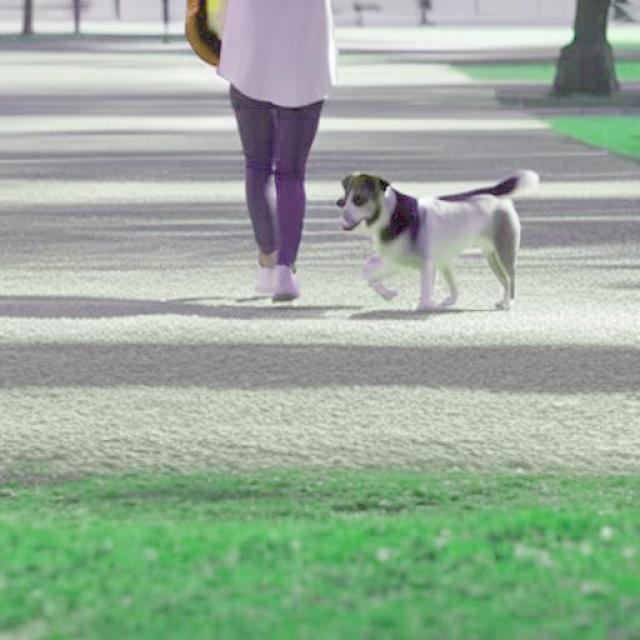Unleashed_Dog: (229, 84, 539, 312)
